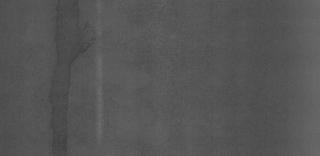water spot: (42, 12, 92, 156)
